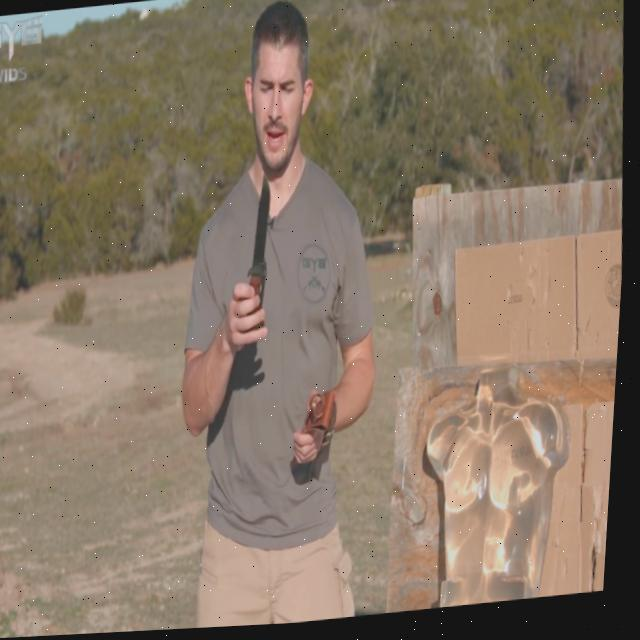knife: (245, 181, 284, 313), (297, 403, 350, 449)
